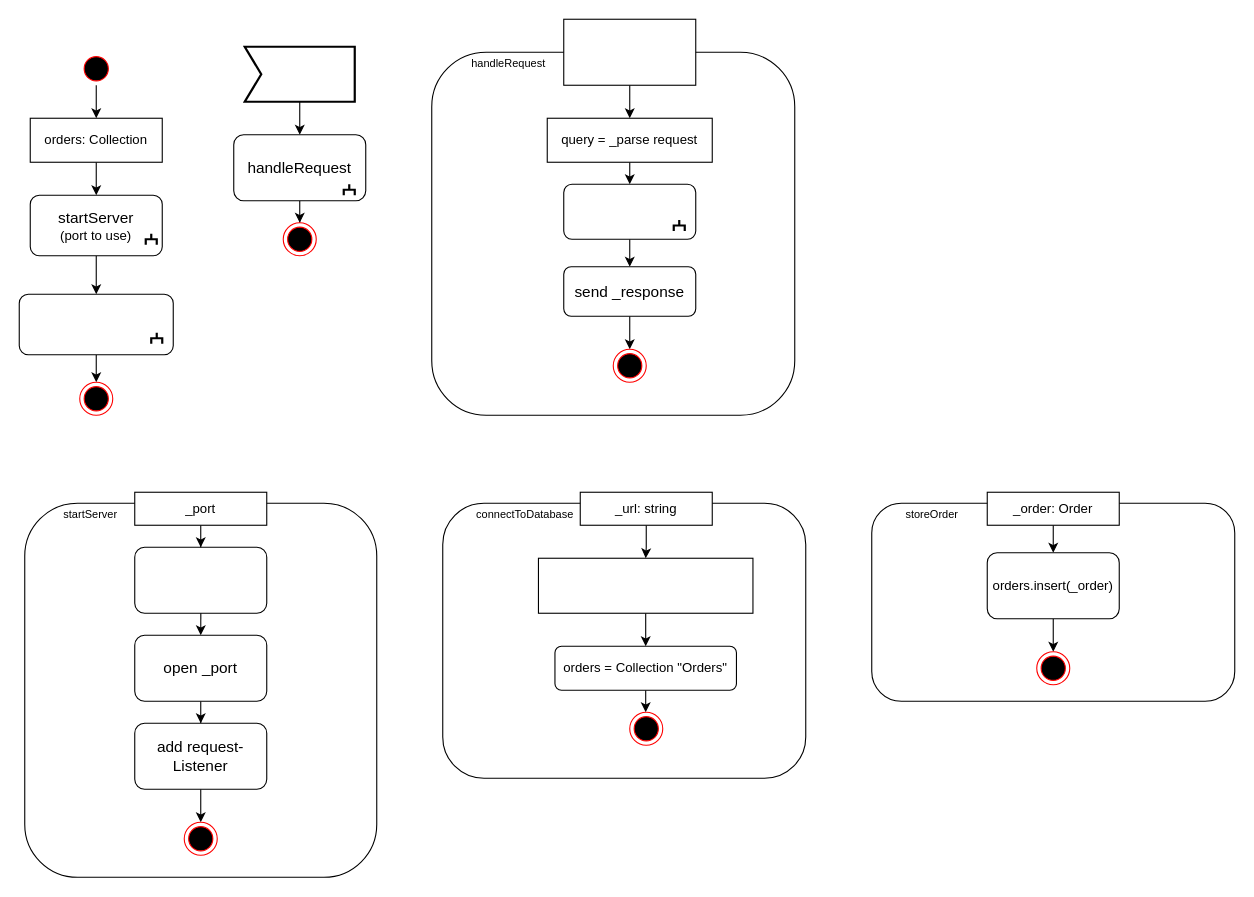
Some shapes in this 1254 by 897 pixel diagram are drawn without their labels. The shapes that lost their labels are listed below. From the top down, each one's centre as x and y in pixels, then its label:
At pixel 629 51: "_request _response".
At pixel 299 73: "request".
At pixel 629 211: "storeOrder (query)".
At pixel 95 324: "ConnectToDatabase (url to use)".
At pixel 200 579: "create Server".
At pixel 645 585: "mongoClient = new client to url".
